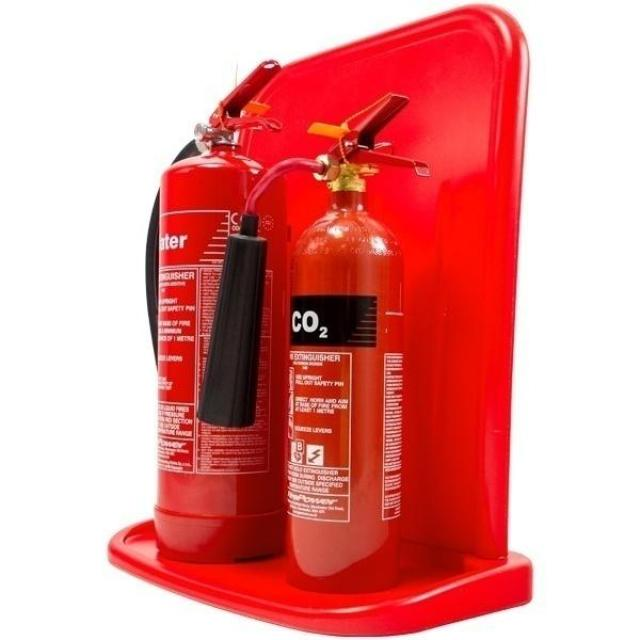fire_extinguisher: (191, 90, 435, 598), (137, 52, 295, 570)
